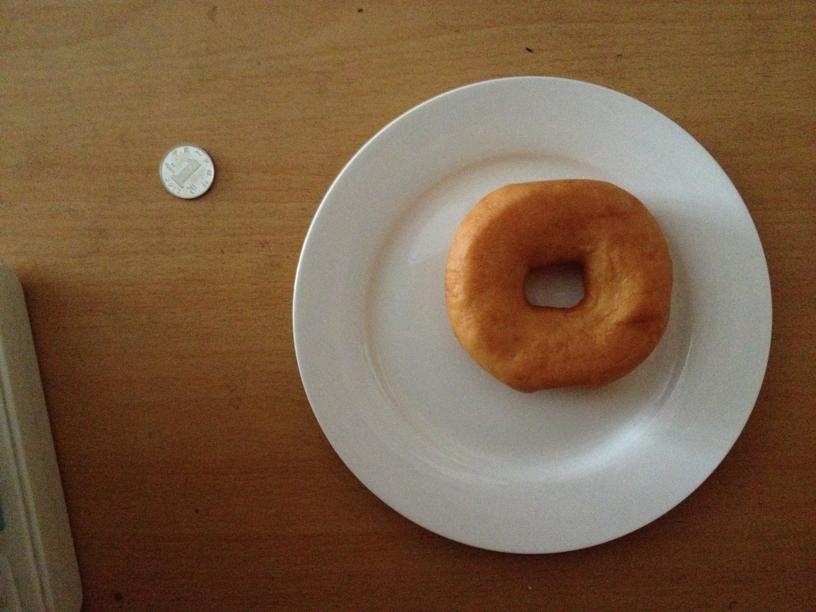coin: (161, 145, 214, 198)
doughnut: (448, 180, 672, 390)
